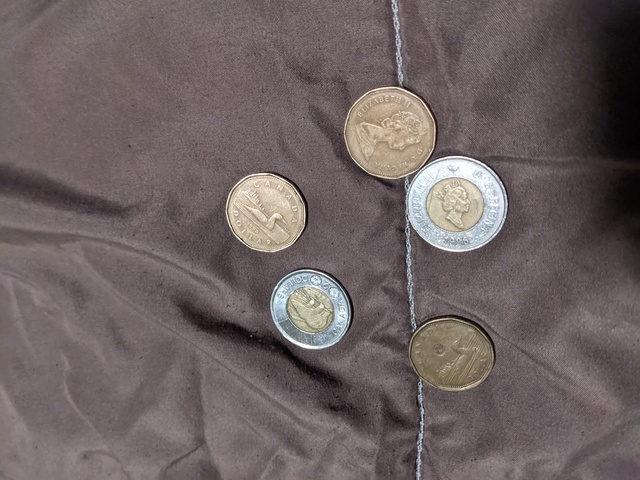loonie: (335, 75, 441, 176), (221, 167, 314, 258), (407, 312, 491, 397)
twonie: (406, 144, 510, 249), (266, 262, 362, 354)
